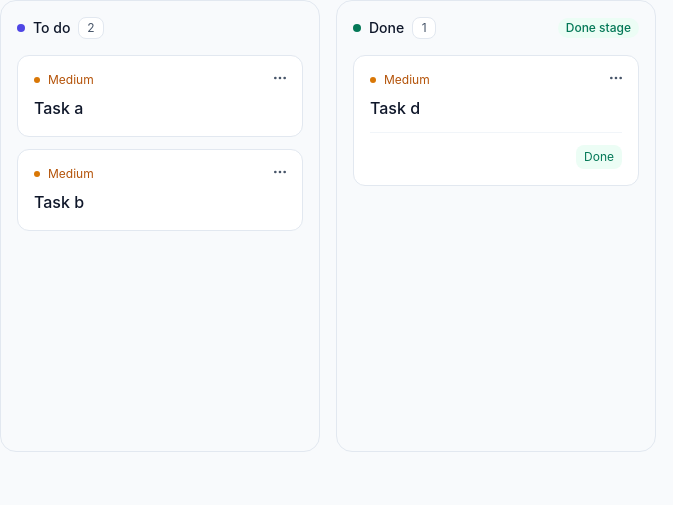
KanbanBoard moves from the menu › refreshes the page from the server when a move is refused, so the board shows server truth
This screenshot has width=673, height=505.
Click the button named "Move options for Task a" at (280, 78), box x1=266 y1=64 x2=294 y2=92
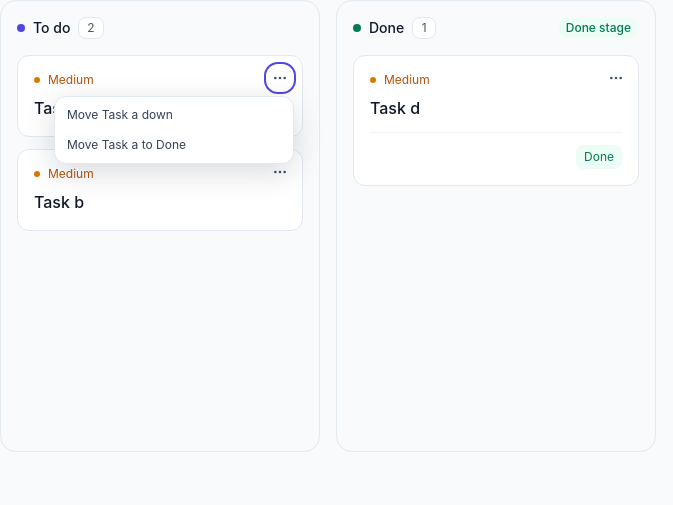
Click the button "Move Task a to Done" at (174, 145), box x1=59 y1=131 x2=289 y2=159
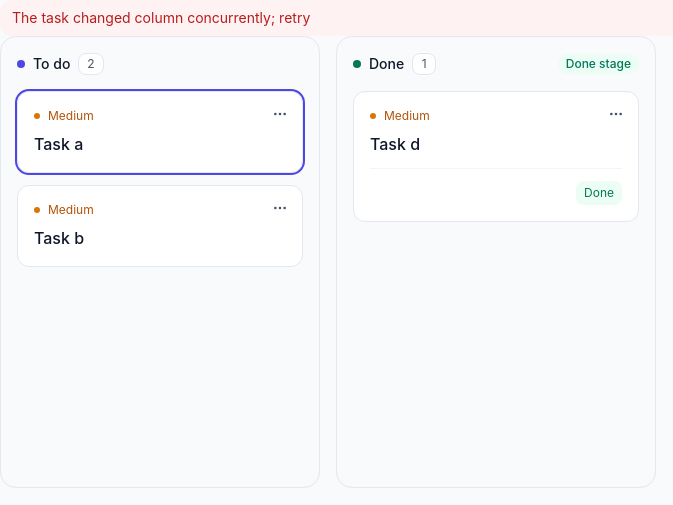
Check: the message named "Board updates" reads "The task changed column concurrently; retry", box x1=12 y1=9 x2=310 y2=26
